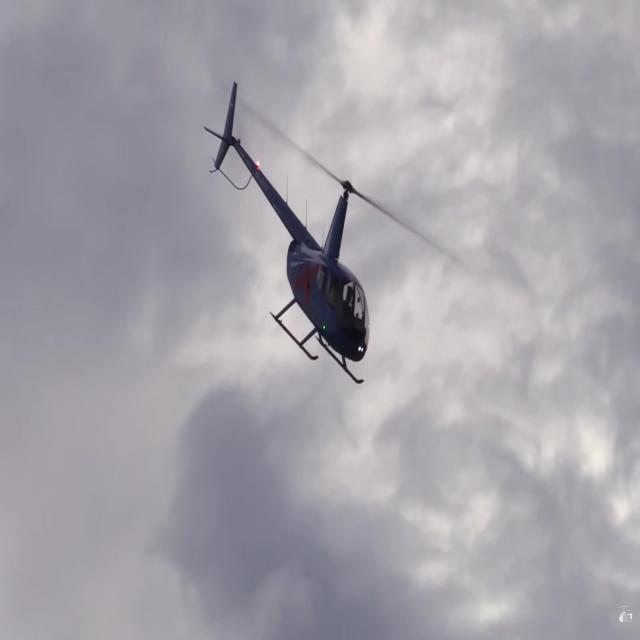CIV_HELO: (203, 80, 370, 386)
